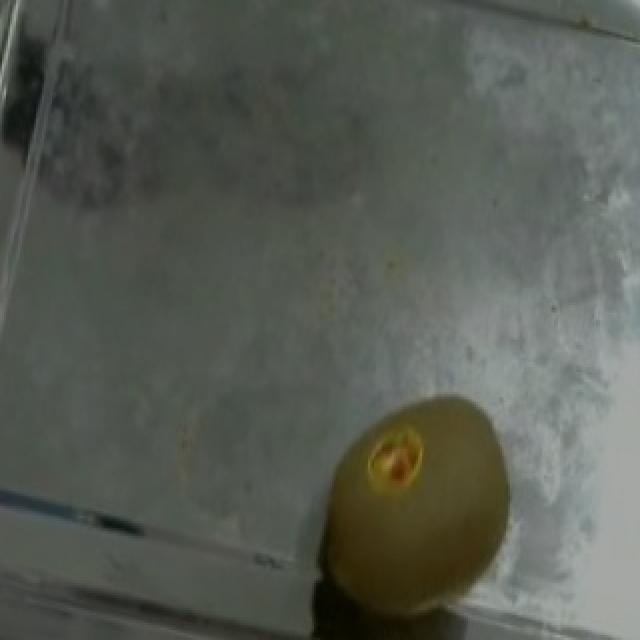Fruit: (282, 377, 542, 640)
